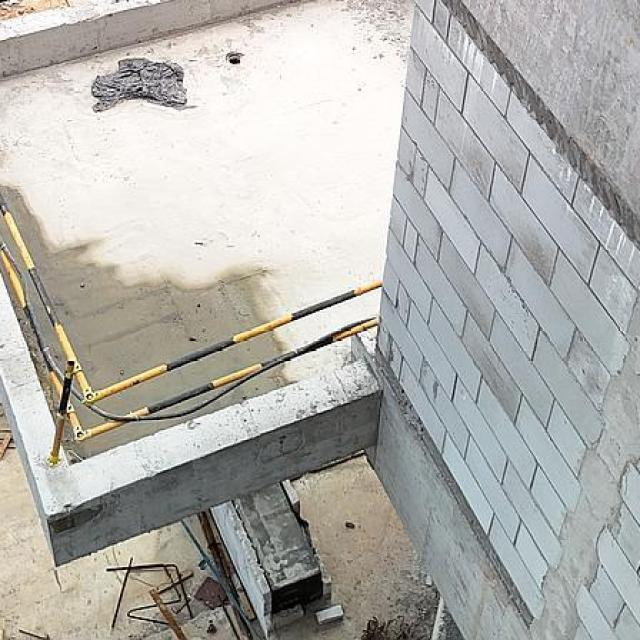Guardrail: (0, 197, 391, 467), (148, 588, 191, 640)
